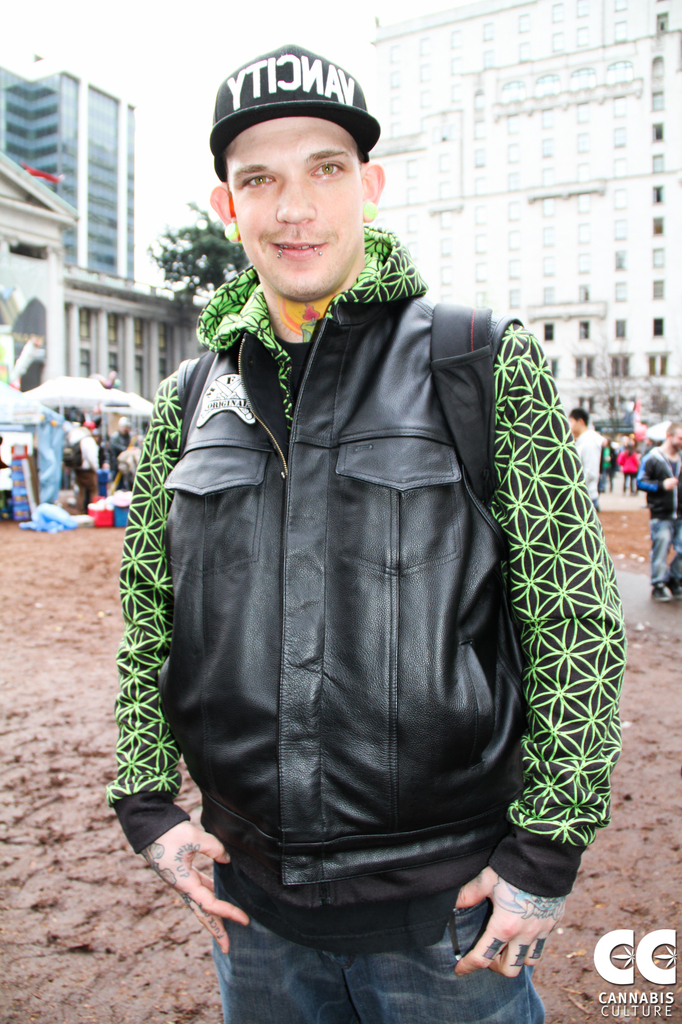Tree: (148, 203, 248, 306)
